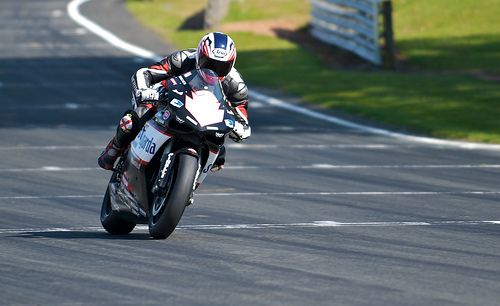helmet: (194, 28, 239, 79)
